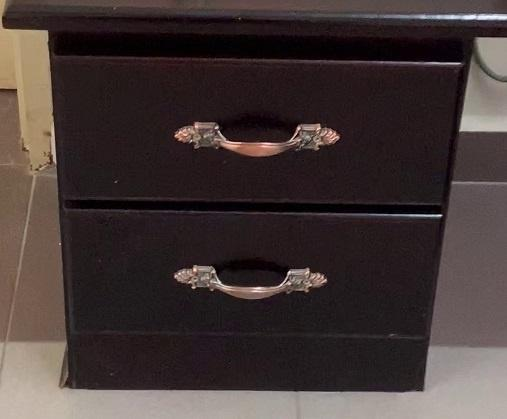cabinet_door: (54, 56, 457, 202), (61, 211, 432, 337)
handle: (171, 118, 346, 166), (172, 260, 332, 307)
